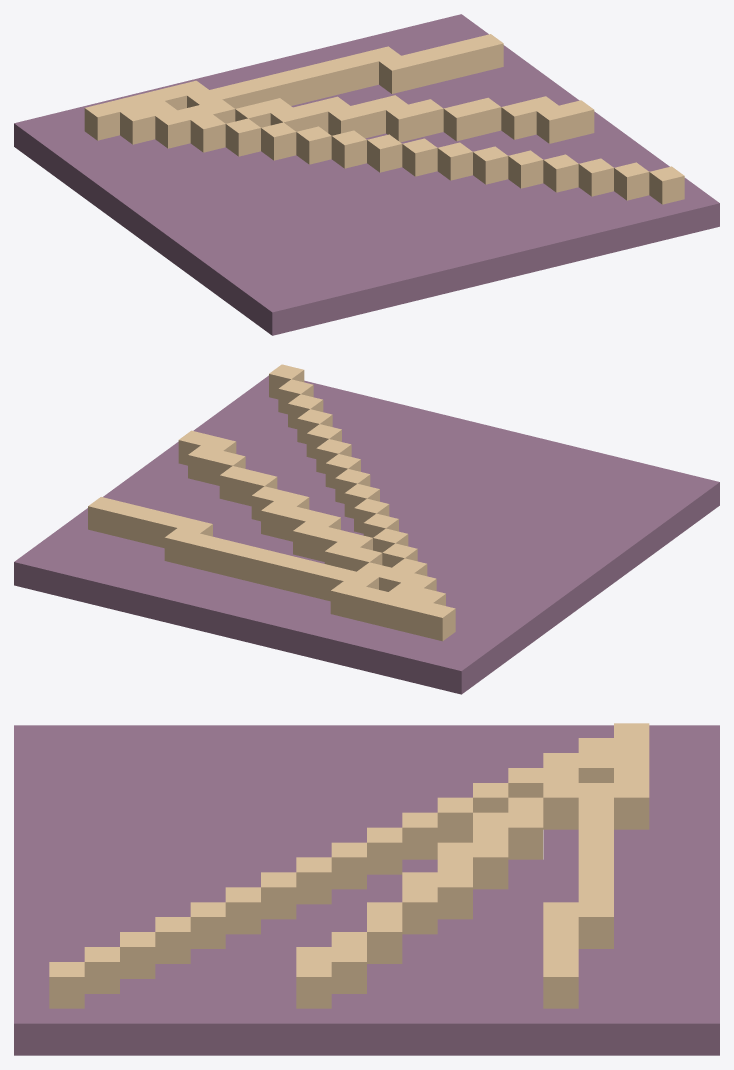
File: alien-biosphere-erosion-fans-9833df27__22771.glb
The picture shows the model from 3 angles, top to bottom: view 1: azimuth 30°, elevation 25°; view 2: azimuth 150°, elevation 25°; view 3: azimuth 270°, elevation 25°; orthographic projection. The views are drawn at different scales.
Parts seen in each view (by area): view 1: erosion-fans; view 2: erosion-fans; view 3: erosion-fans.
Part boxes in pixels (x1,y1,x2,y2): erosion-fans: (14,14,719,335); erosion-fans: (14,364,719,694); erosion-fans: (14,723,719,1055).
Bounding box in the file's own units: 4 × 0.4001 × 4.
